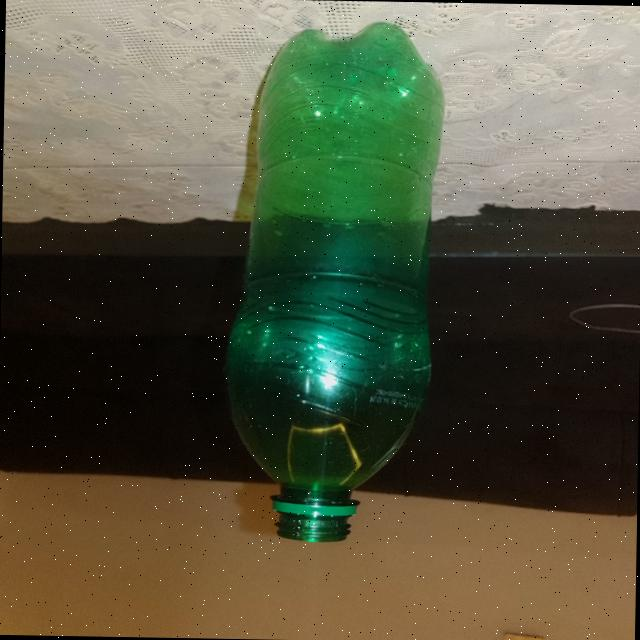bottle: (225, 15, 452, 570)
